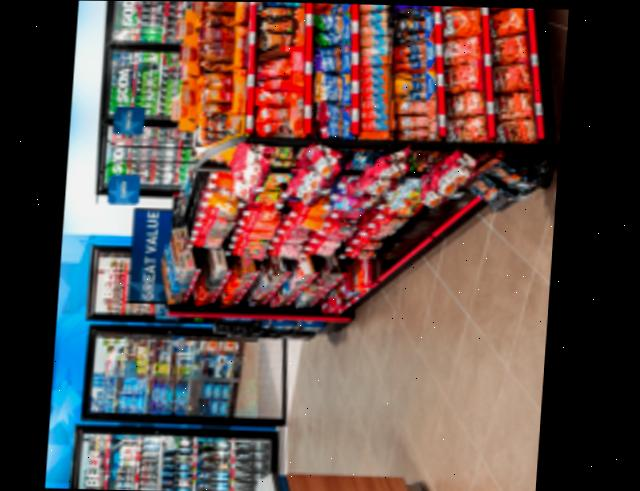background: (50, 0, 569, 491)
